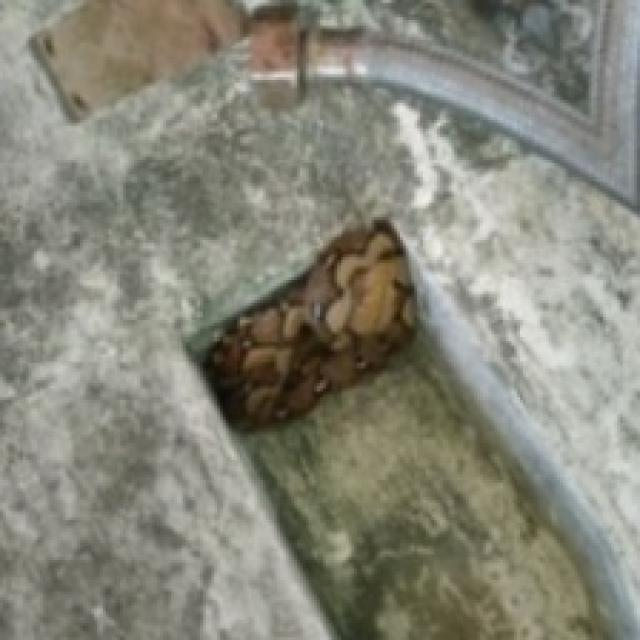reticulated python: (203, 220, 414, 426)
